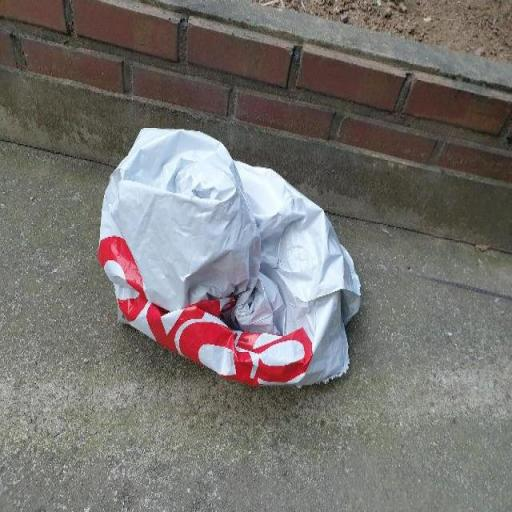plastic-bag: (94, 130, 361, 392)
